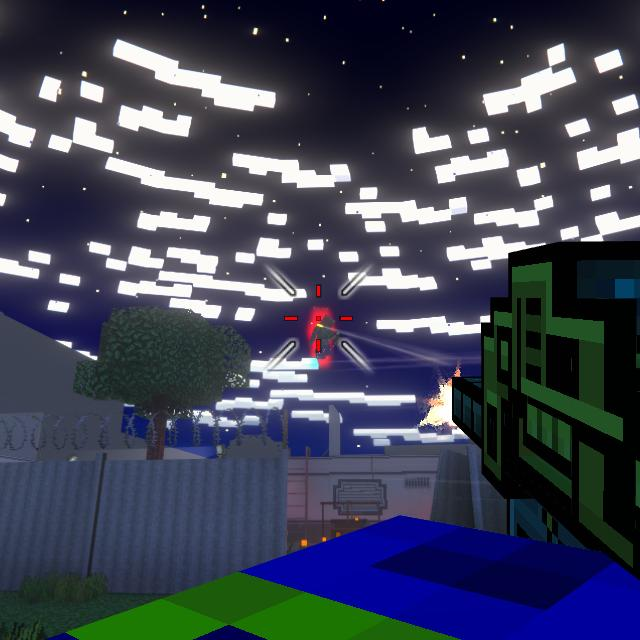Enemy: (314, 314, 337, 359)
